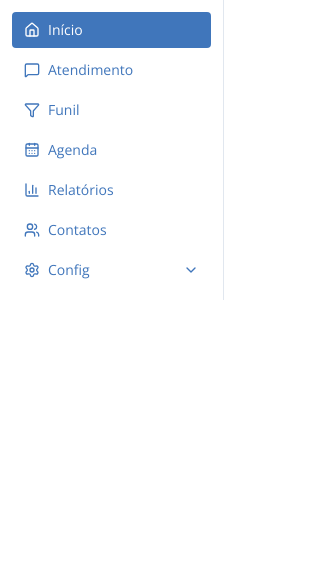
Test case: Sidebar › mantém Config colapsado fora de /settings e revela as 3 seções ao clicar
Click the button with test id "nav-/settings" at (112, 270), box [12,252,211,288]
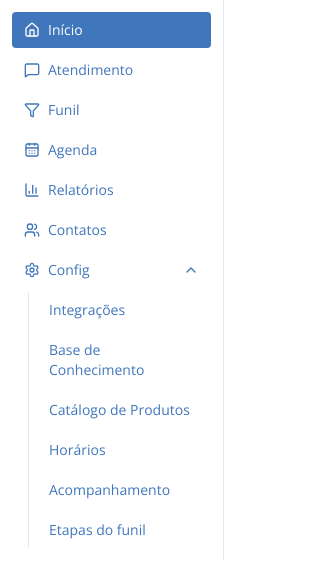
Check: the link with test id "nav-/settings/integracoes" is shown, box [49,300,125,319]
Check: the link with test id "nav-/settings/kb" is shown, box [49,340,144,379]
Check: the link with test id "nav-/settings/working-hours" is shown, box [49,440,106,459]
